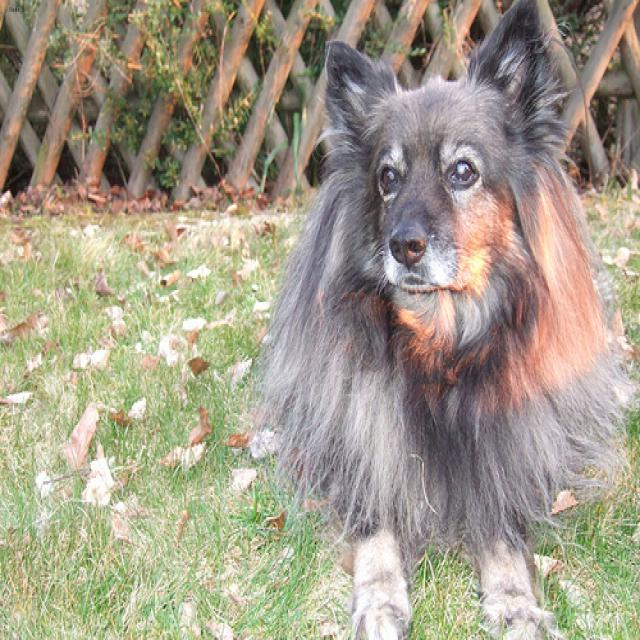dog-keeshond: (247, 2, 637, 637)
